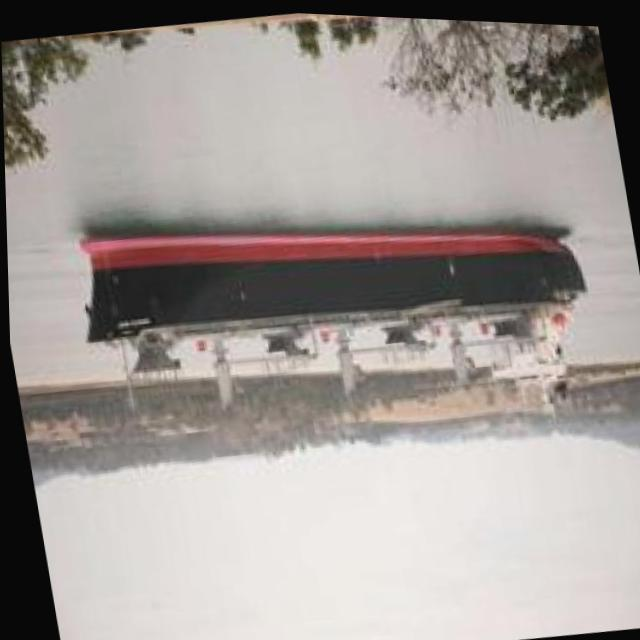ship2: (76, 222, 586, 410)
